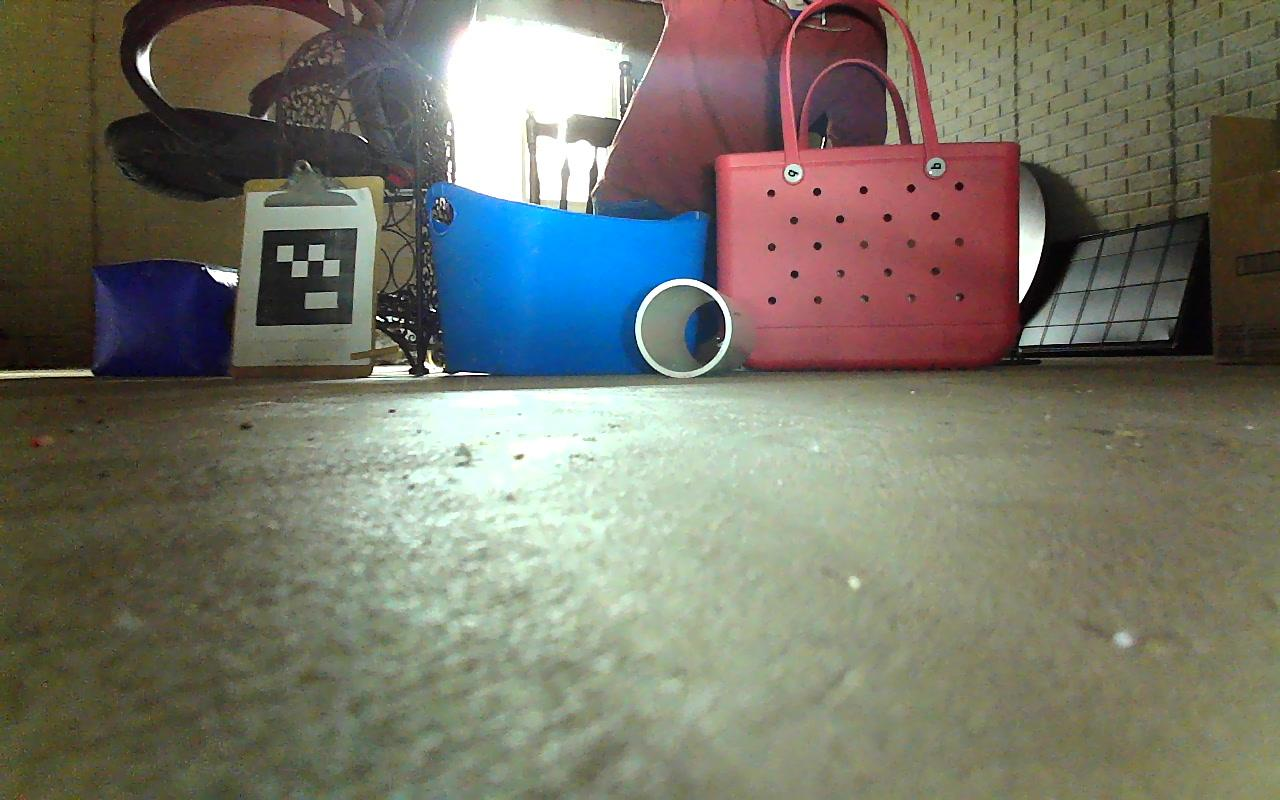coral: (635, 277, 759, 377)
